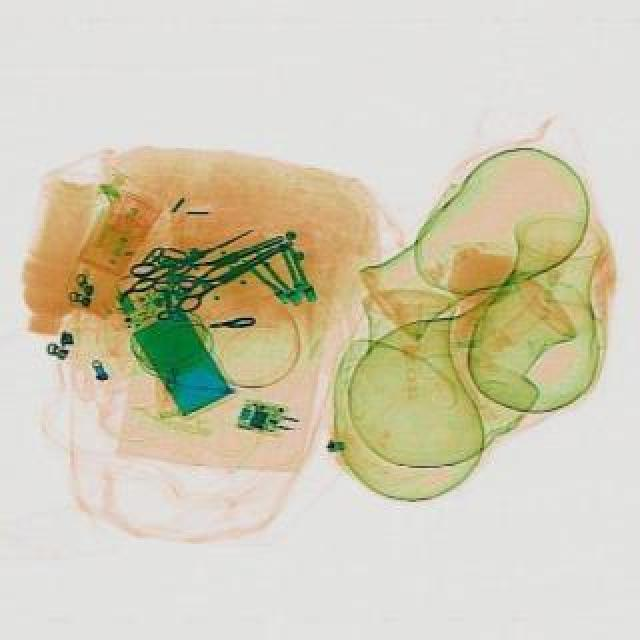pliers: (164, 232, 302, 312), (124, 220, 258, 292)
